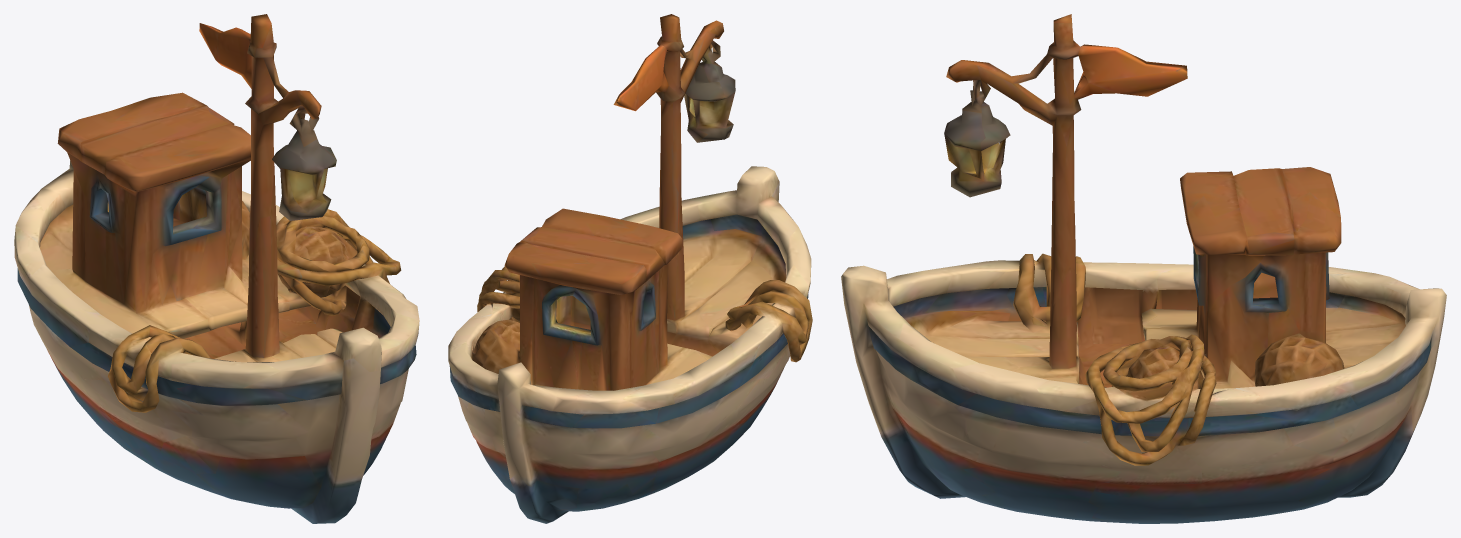
Rendered from boat.glb.
The picture shows the model from 3 angles, left to right: view 1: azimuth 30°, elevation 25°; view 2: azimuth 150°, elevation 25°; view 3: azimuth 270°, elevation 25°; orthographic projection. The views are drawn at different scales.
Parts seen in each view (by area): view 1: tripo_node_a9235926-8fbb-433e-9836-8589c537a62a; view 2: tripo_node_a9235926-8fbb-433e-9836-8589c537a62a; view 3: tripo_node_a9235926-8fbb-433e-9836-8589c537a62a.
Boxes of the visible parts, box(x1,y1,x2,y2) form: tripo_node_a9235926-8fbb-433e-9836-8589c537a62a: box(14, 14, 419, 523); tripo_node_a9235926-8fbb-433e-9836-8589c537a62a: box(448, 14, 812, 523); tripo_node_a9235926-8fbb-433e-9836-8589c537a62a: box(841, 14, 1446, 523).
Size of the model in its own units: 0.619 by 0.8679 by 1.
Materials: 1 (1 with a texture image).
